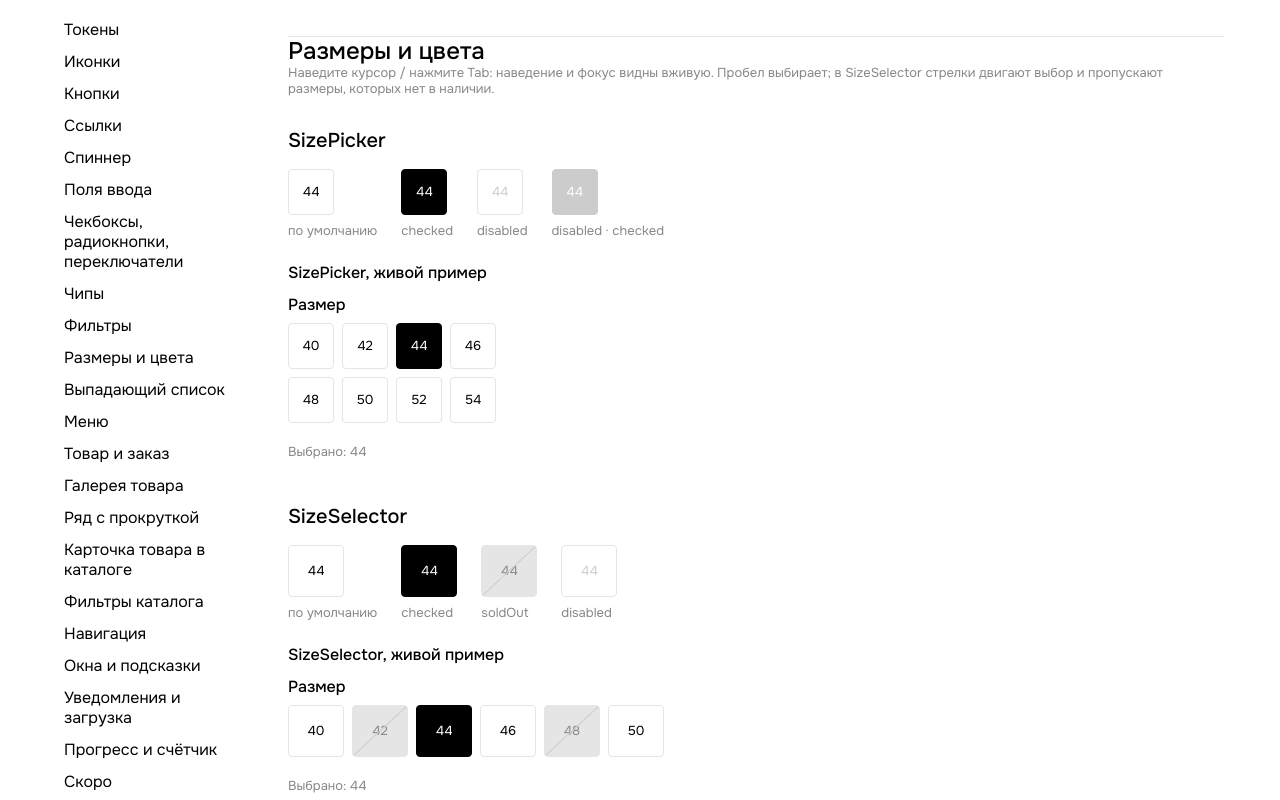
it: SizePicker demo › starts with 44 and lists the picked sizes
The width and height of the screenshot is (1280, 800).
(page scrolled)
Check: the 5th checkbox labelled "44" is checked, box x1=396 y1=323 x2=442 y2=369
Check: the 1st text "Выбрано: 44" is shown, box x1=288 y1=443 x2=366 y2=460
What coordinates should you click on to do the following:
click the checkbox labelled "50"
I would click on:
 (365, 400)
Its box is x1=342 y1=377 x2=388 y2=423.
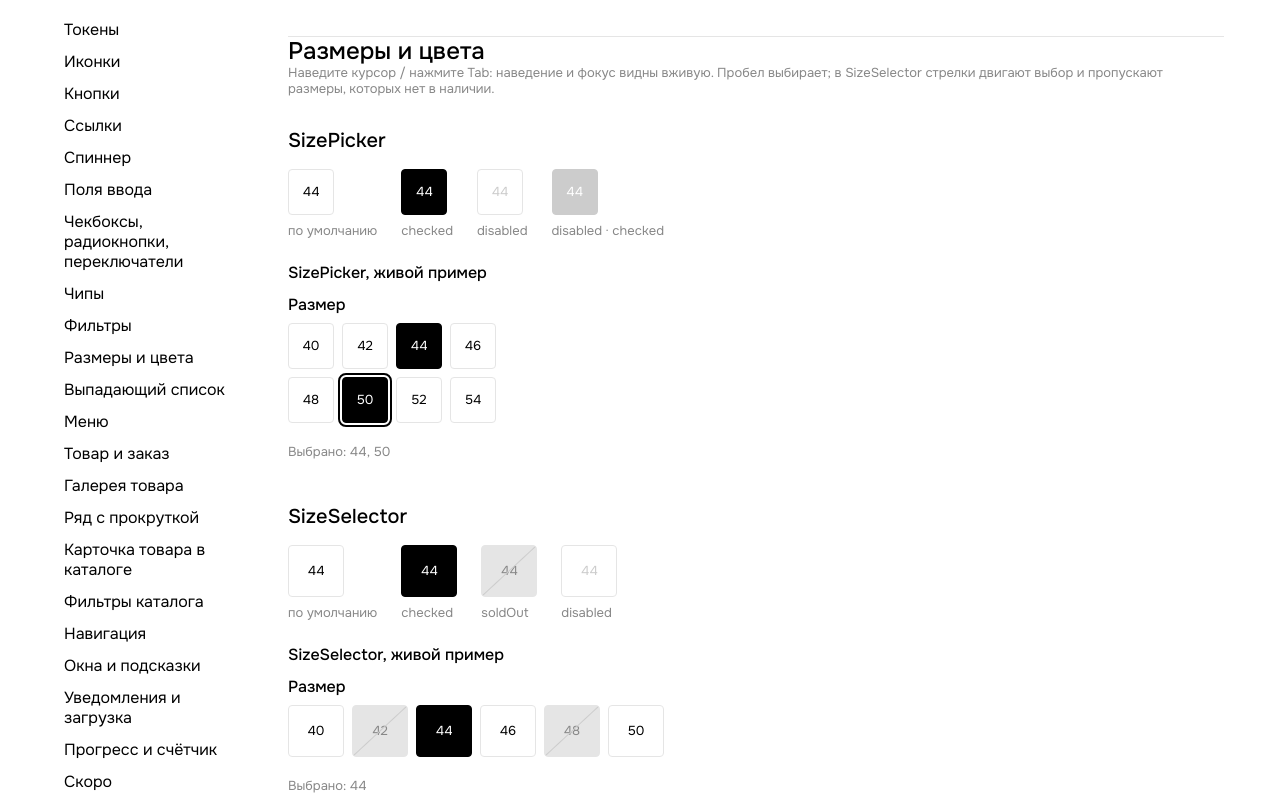
Check: the text "Выбрано: 44, 50" is shown, box x1=288 y1=443 x2=390 y2=460
What coordinates should you click on to do the following:
click the 5th checkbox labelled "44"
I would click on:
 (419, 346)
Its box is x1=396 y1=323 x2=442 y2=369.
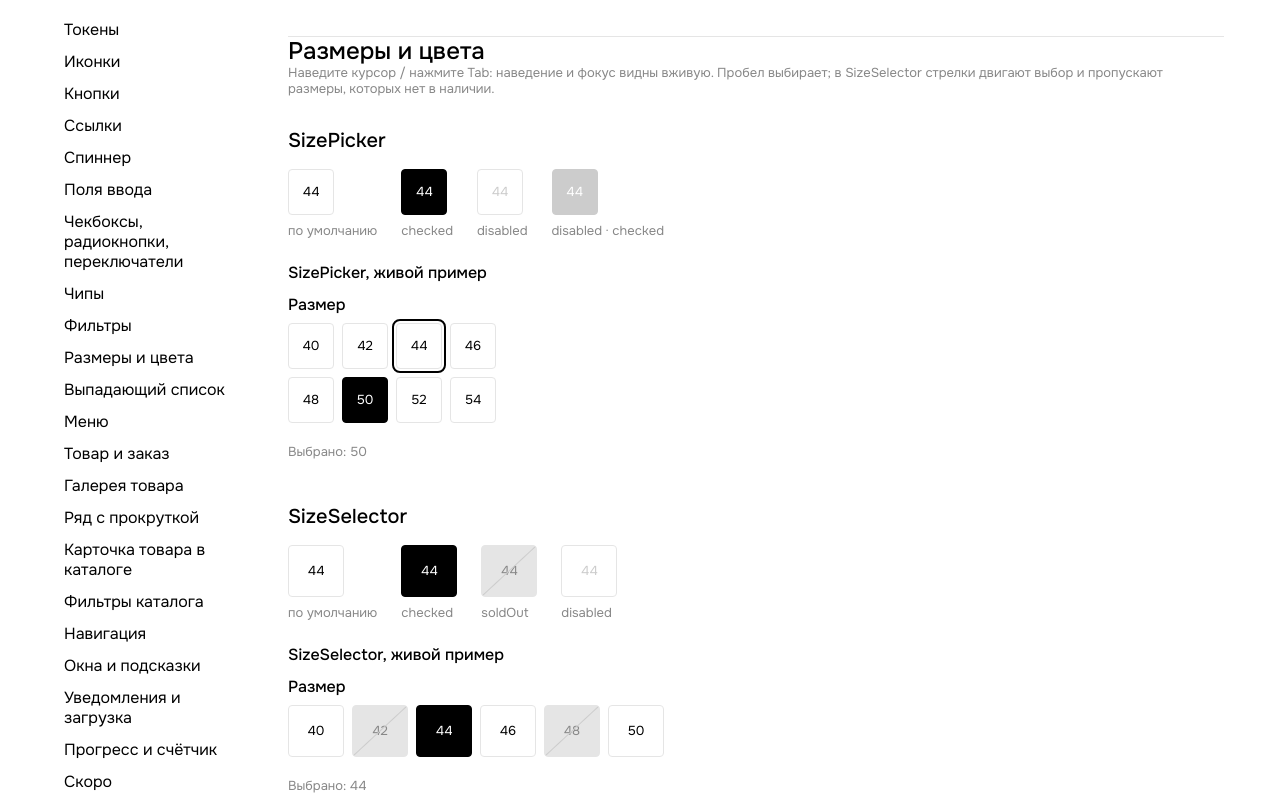
What coordinates should you click on to do the following:
click the checkbox labelled "50"
I would click on:
 (365, 400)
Its box is x1=342 y1=377 x2=388 y2=423.
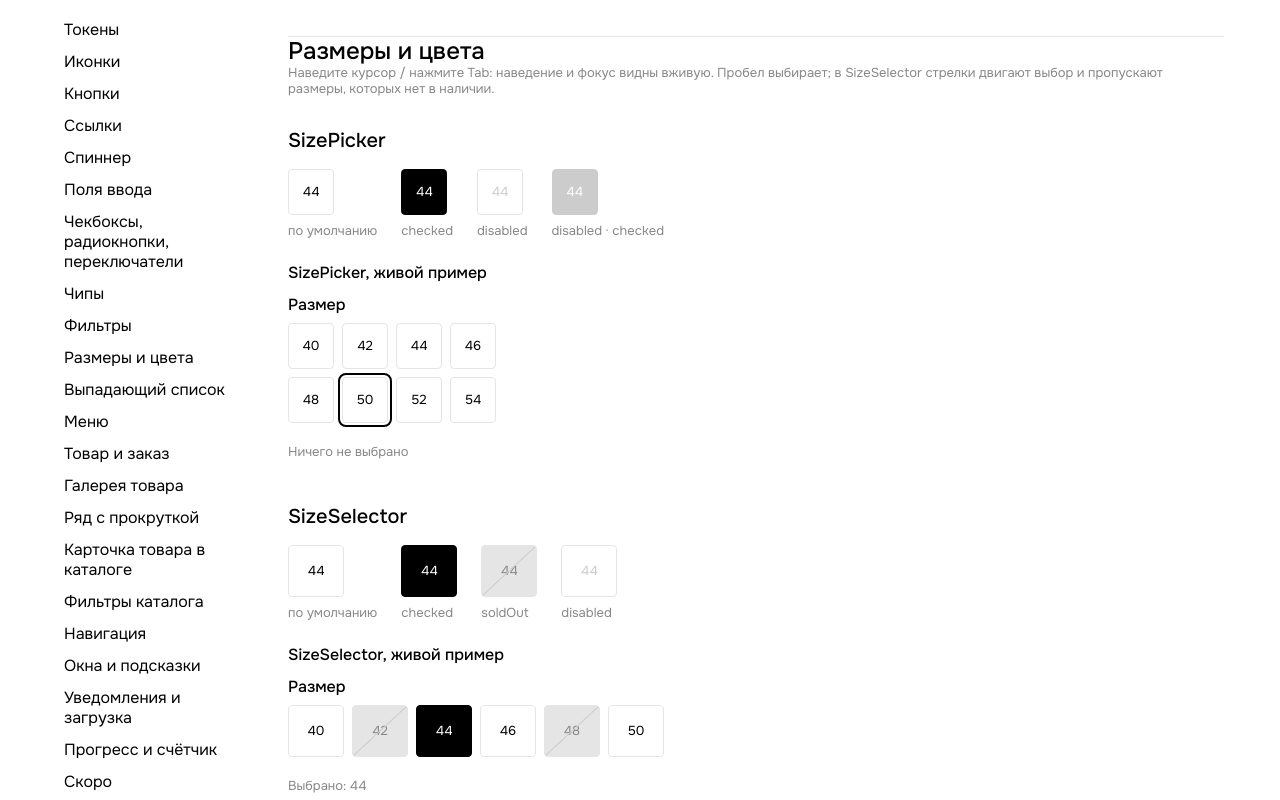
Check: the text "Ничего не выбрано" is shown, box x1=288 y1=443 x2=408 y2=460
